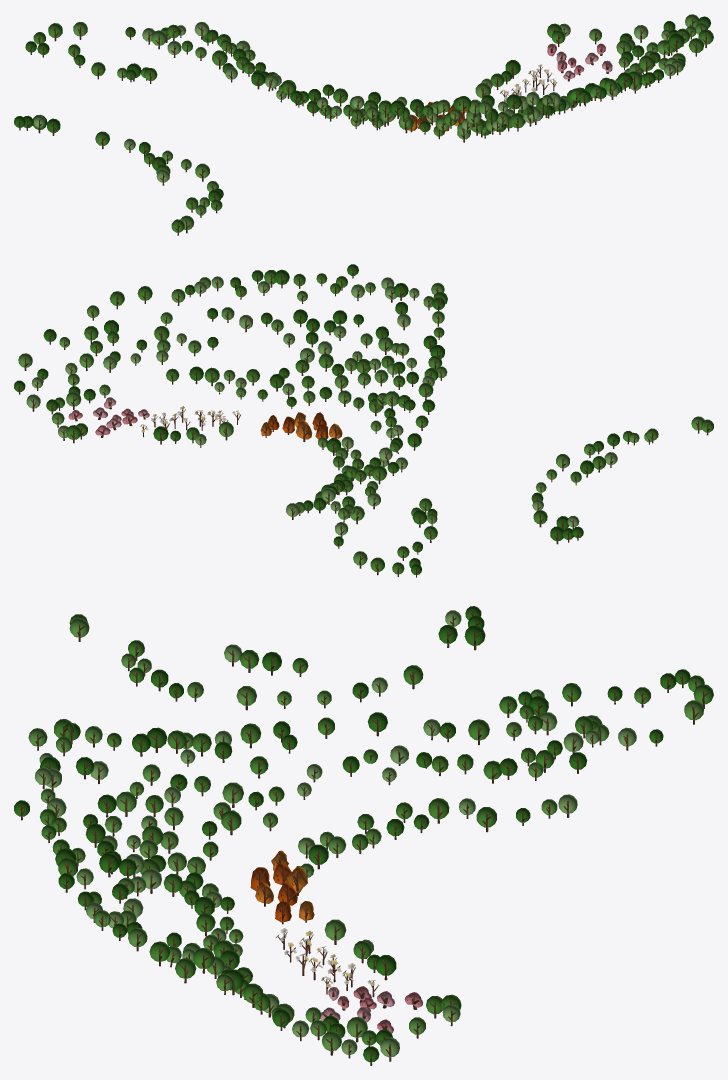
3 views of the same model, one above another, from view 1: azimuth 30°, elevation 25°; view 2: azimuth 150°, elevation 25°; view 3: azimuth 270°, elevation 25° (orthographic). The views are drawn at different scales.
Bounding box in the file's own units: 629 × 106 × 446.
Materials: 1 (1 with a texture image).
